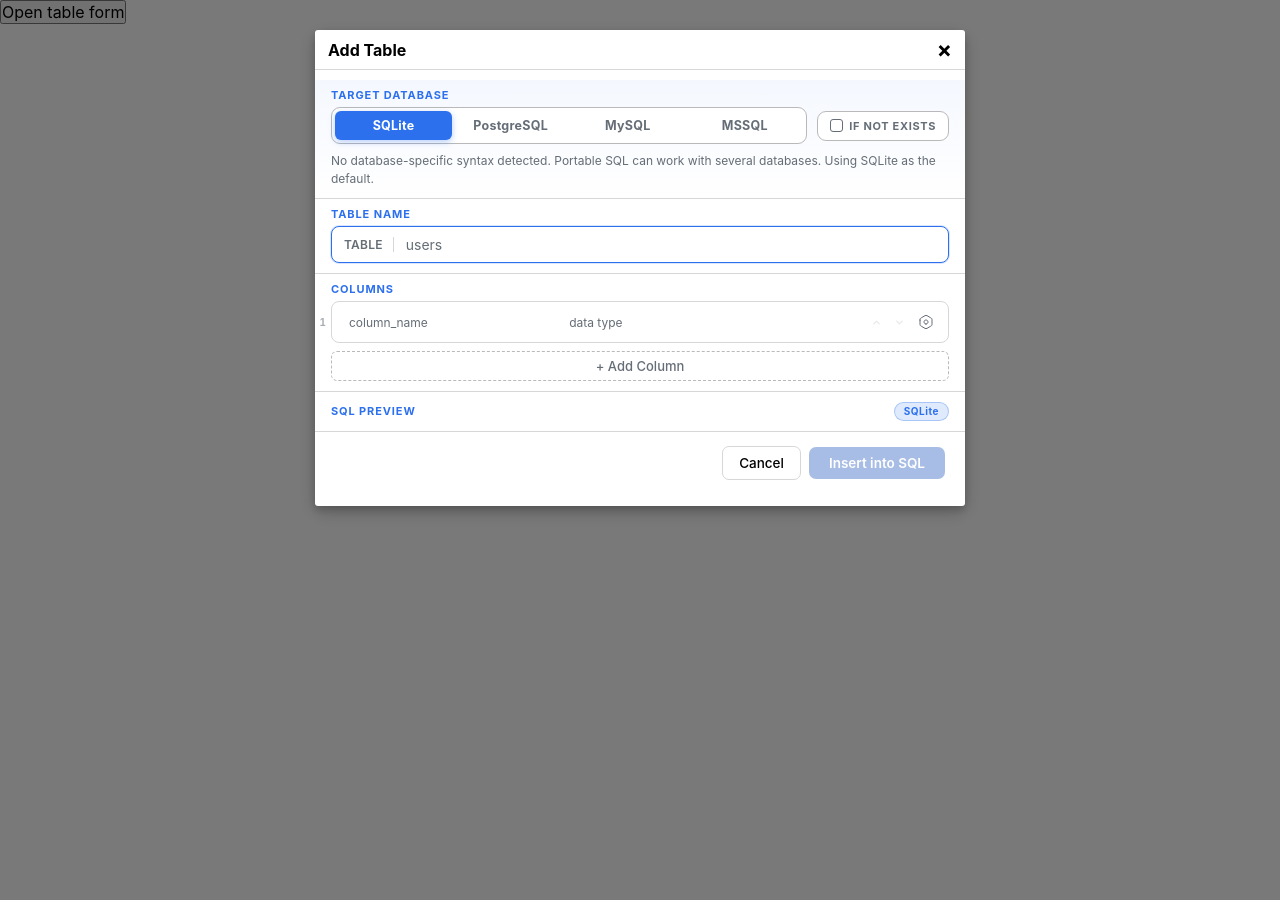
Add Table production workflow › checks IF NOT EXISTS-only drafts on backdrop dismissal
Step 1. Click the checkbox labelled "IF NOT EXISTS" → (883, 126), box [817,110,949,140]
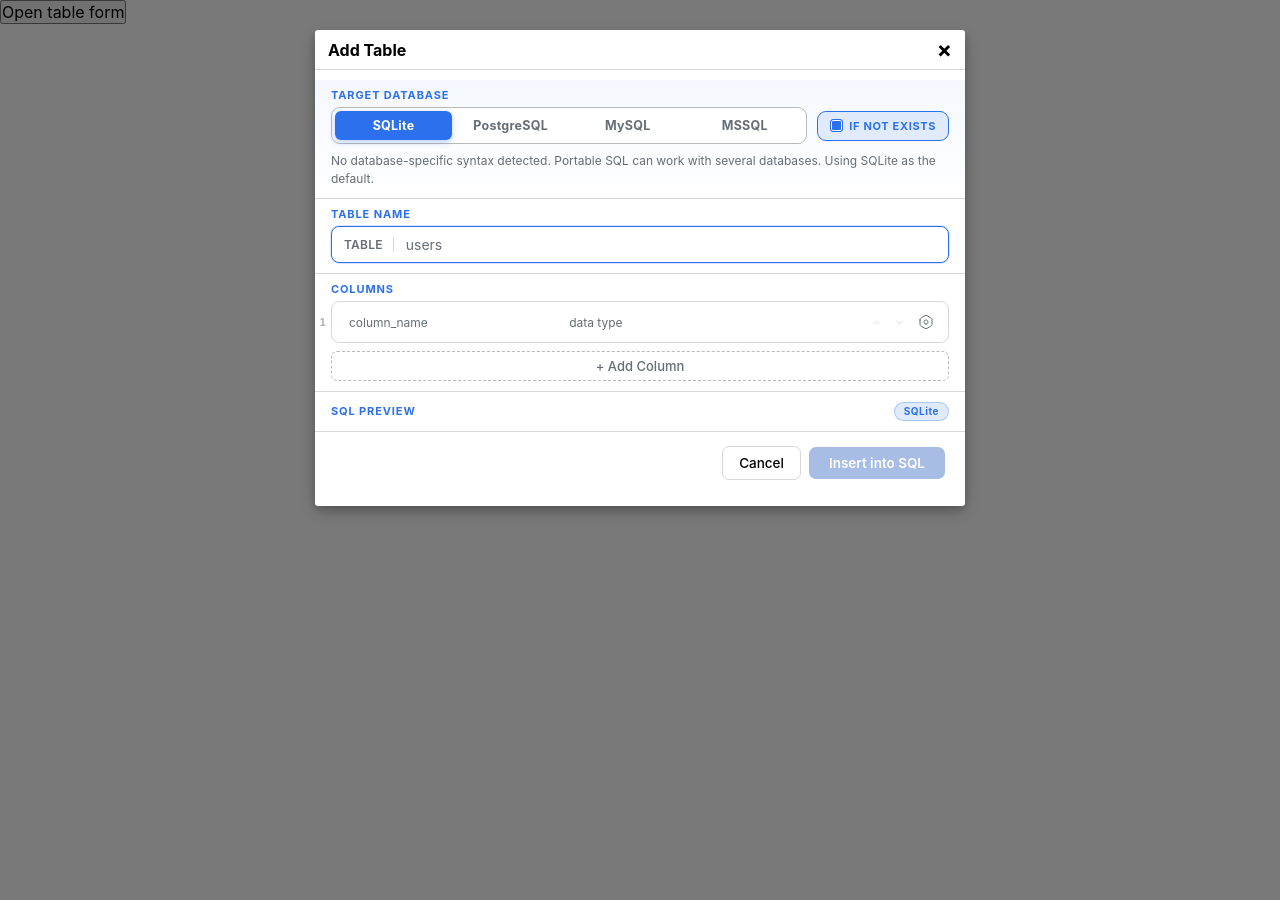
Step 2. Click the element with class "modal" → (77, 450), box [0,0,1279,899]
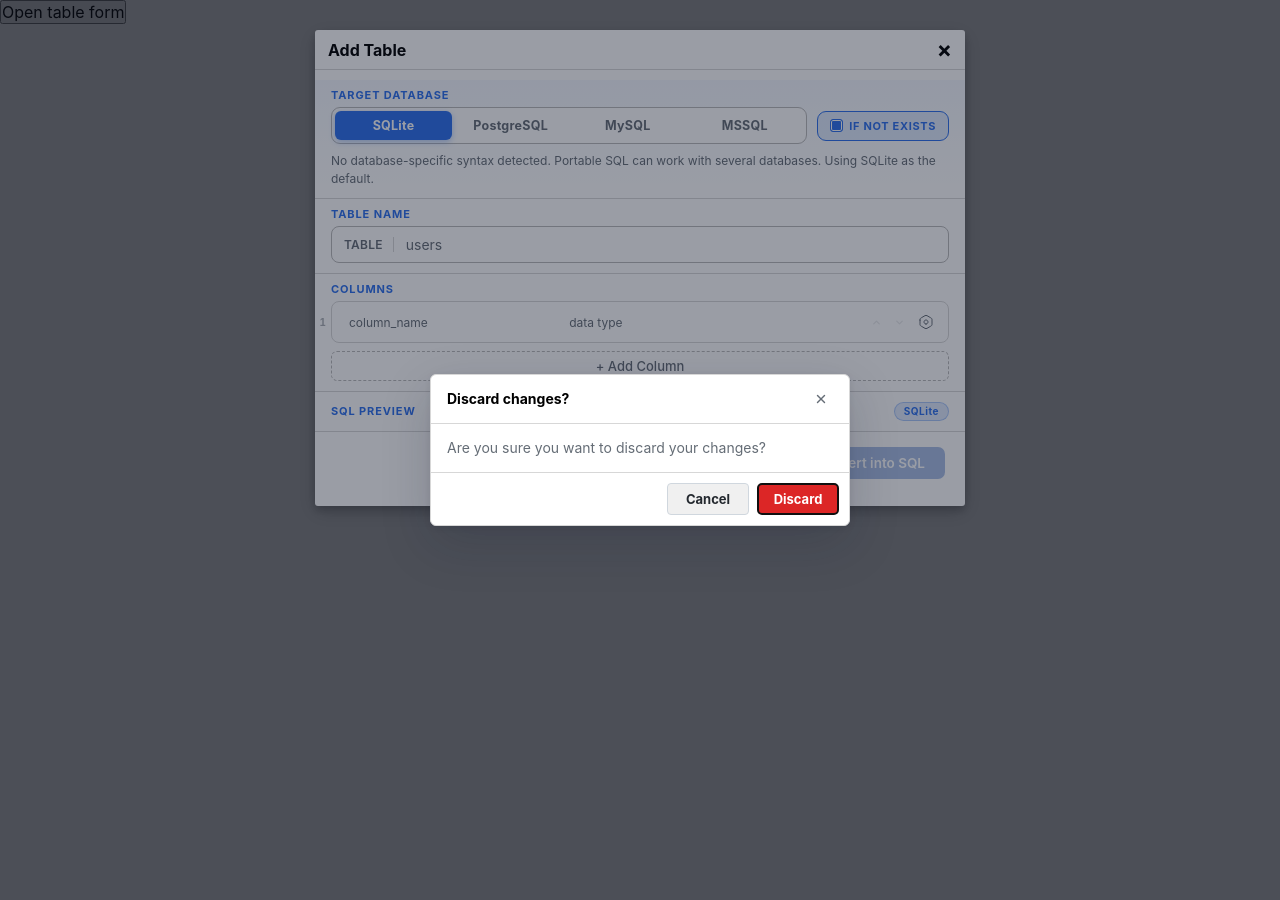
Result: the dialog "Discard changes?" is shown at [430,374,850,526]
